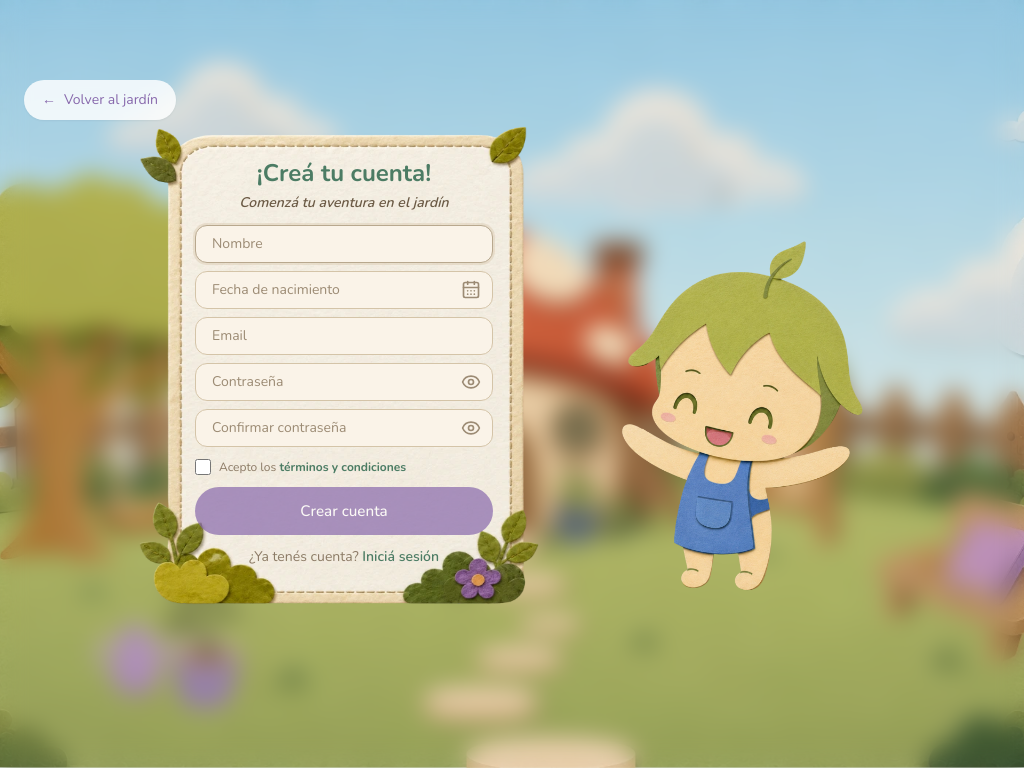
it: Register › muestra error de edad mínima con fecha reciente
Type "mili" into the field with placeholder "Nombre" at (344, 244), box x1=195 y1=225 x2=493 y2=263
Type "mili@mail.com" into the field with placeholder "Email" at (344, 336), box x1=195 y1=317 x2=493 y2=355
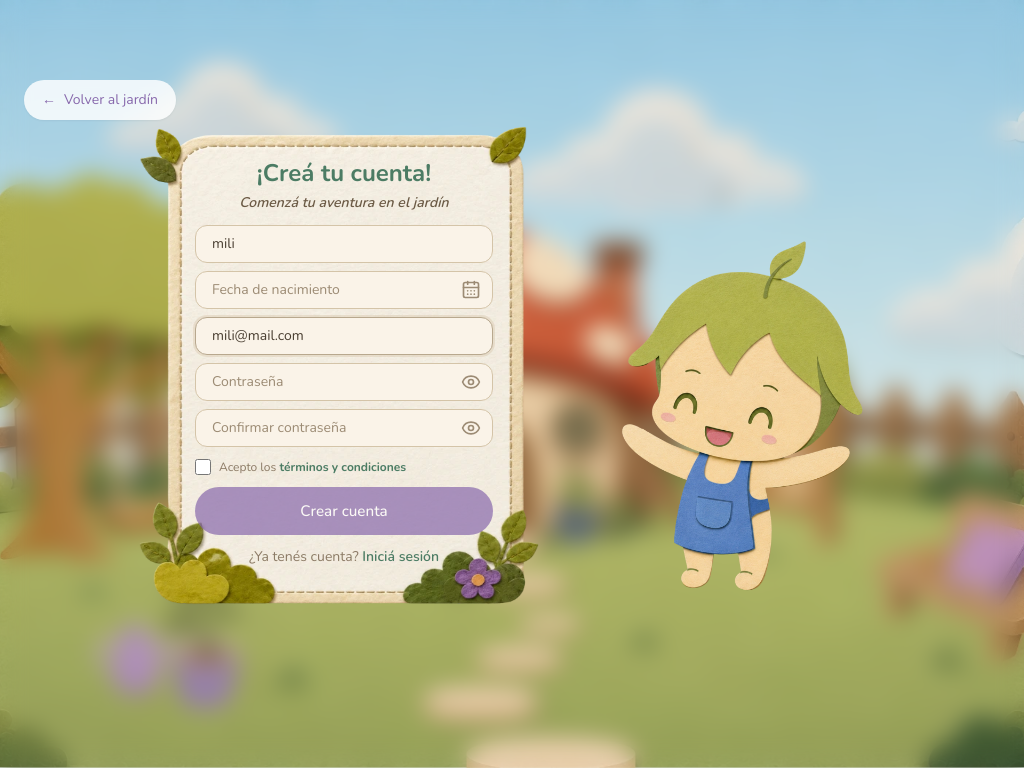
Type "123456" into the password field with placeholder "Contraseña" at (344, 382), box x1=195 y1=363 x2=493 y2=401
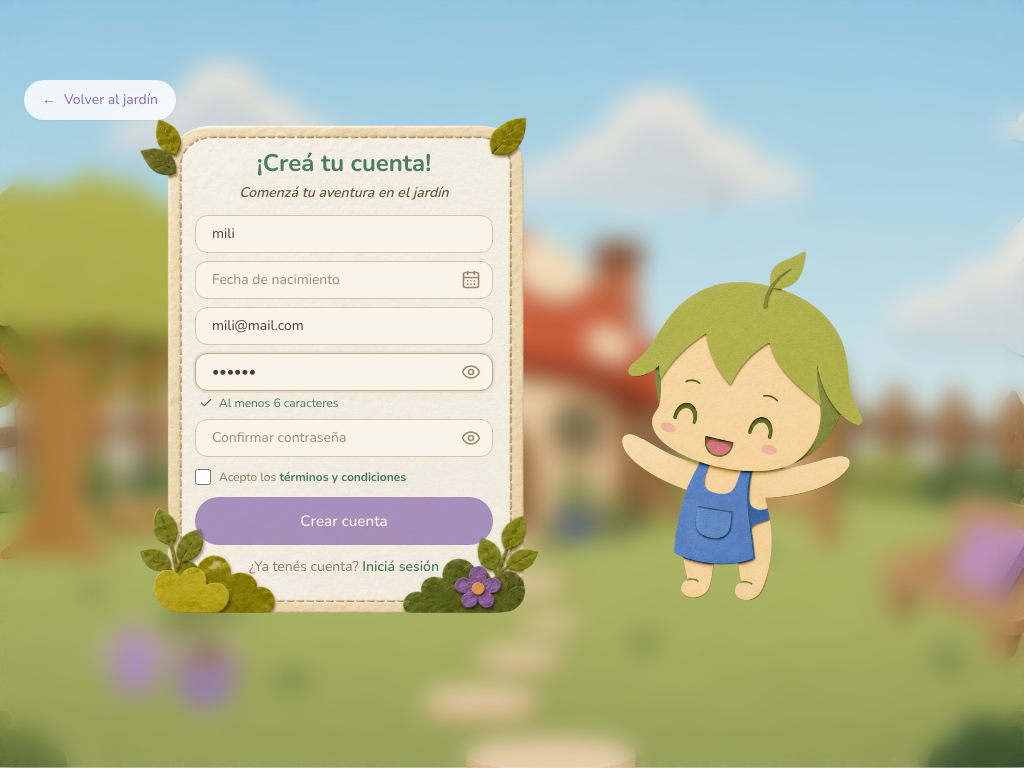
Type "123456" into the password field with placeholder "Confirmar contraseña" at (344, 438), box x1=195 y1=419 x2=493 y2=457
Click the field with placeholder "Fecha de nacimiento" at (344, 280), box x1=195 y1=261 x2=493 y2=299
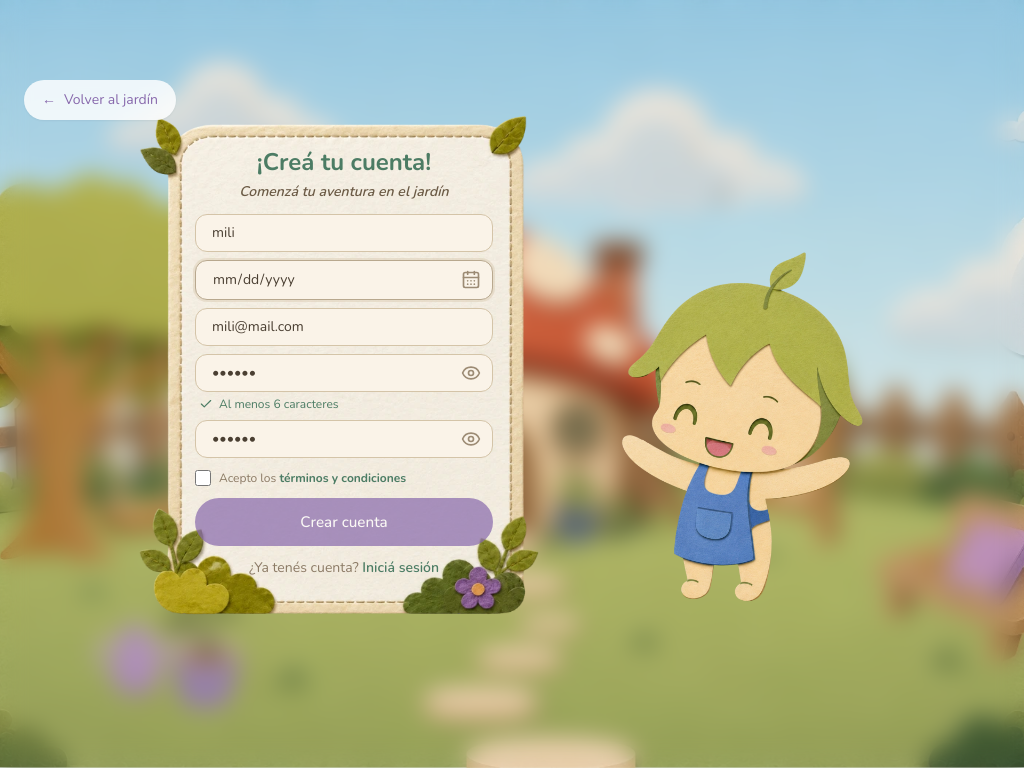
Type "2020-01-01" into the date field with placeholder "Fecha de nacimiento" at (344, 280), box x1=195 y1=260 x2=493 y2=300
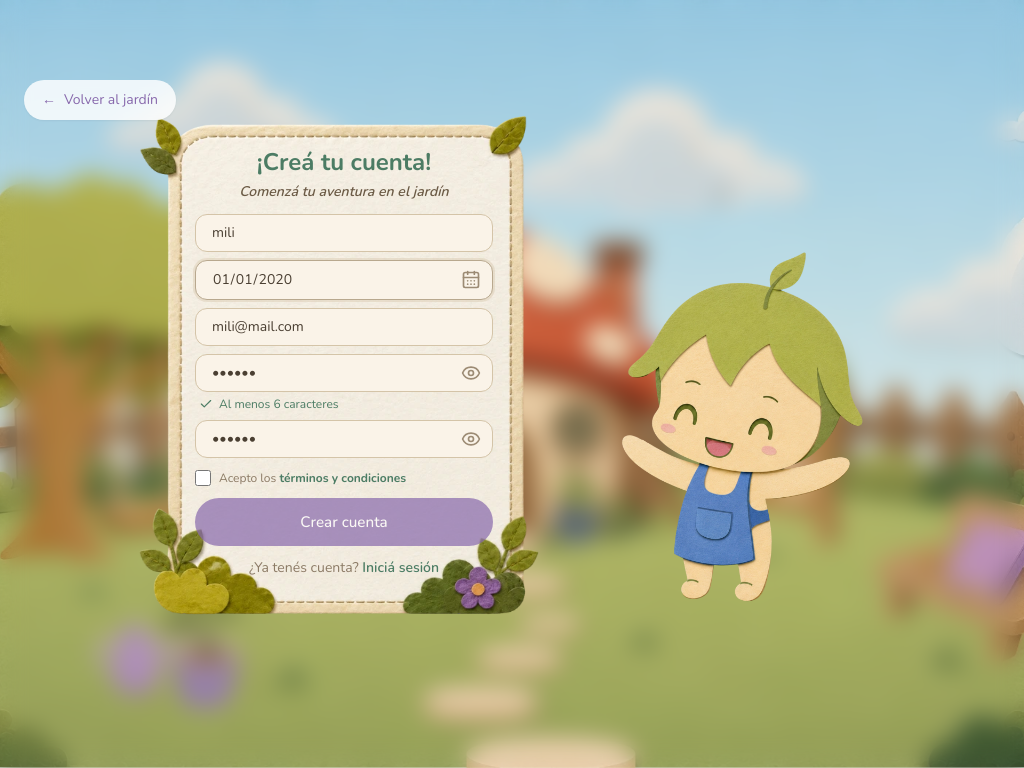
Click the checkbox at (203, 478), box x1=195 y1=470 x2=211 y2=486
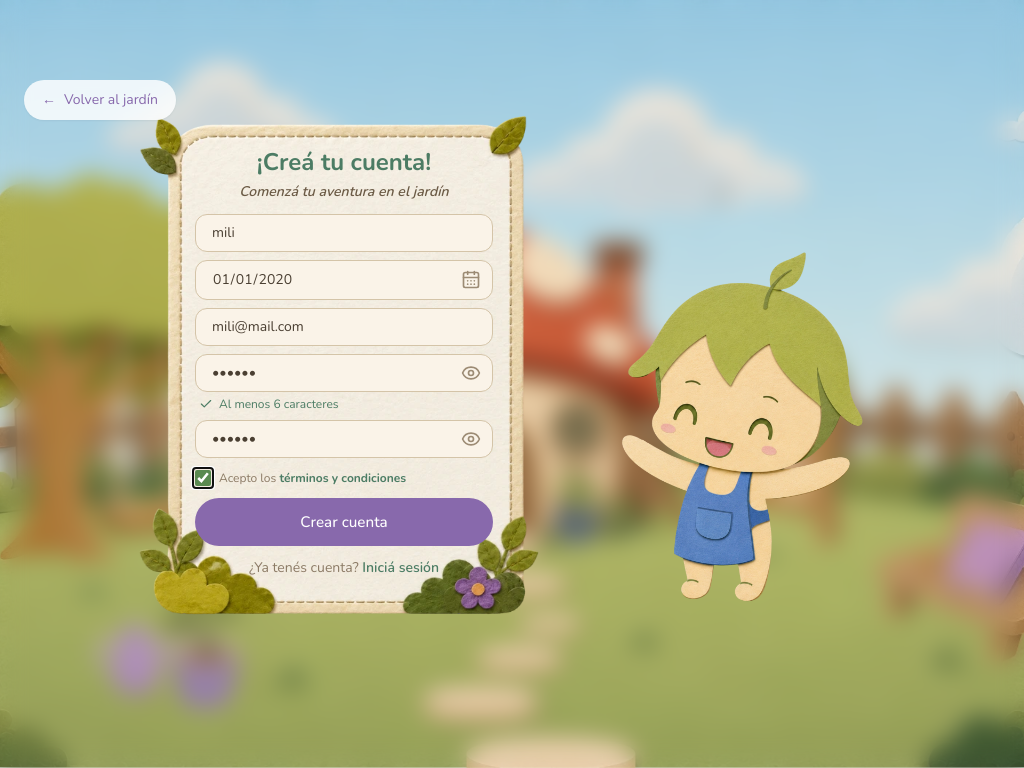
Click the button "Crear cuenta" at (344, 522), box x1=195 y1=498 x2=493 y2=546
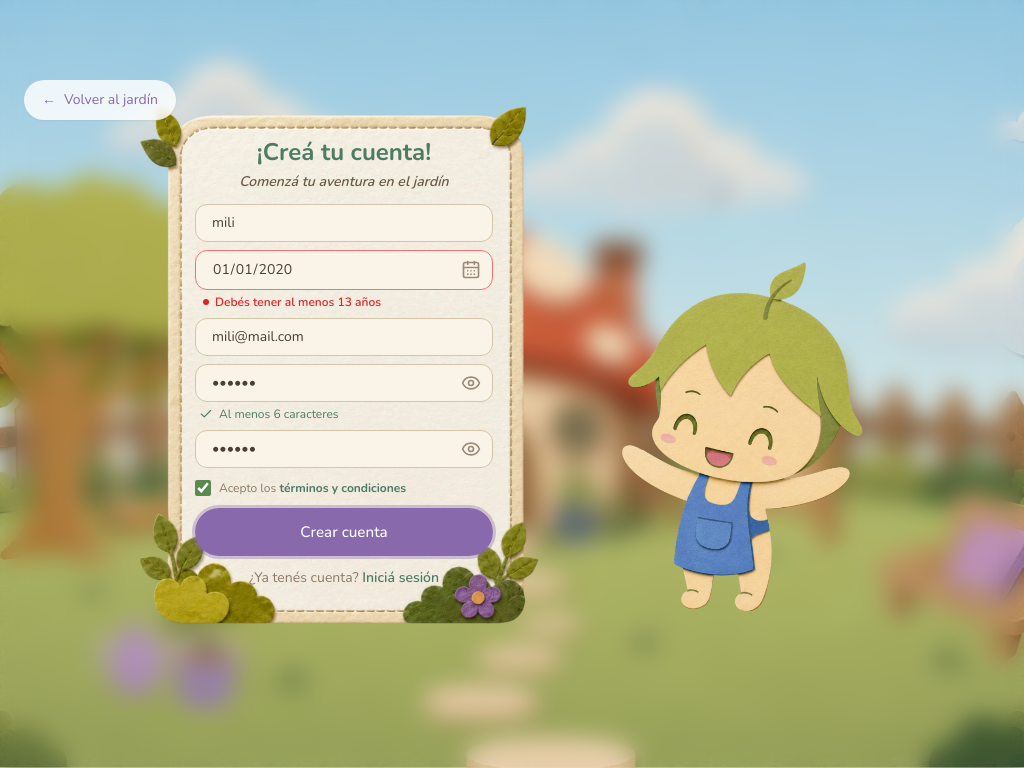
Now the text "Debés tener al menos 13 años" is shown, box x1=203 y1=294 x2=381 y2=310
